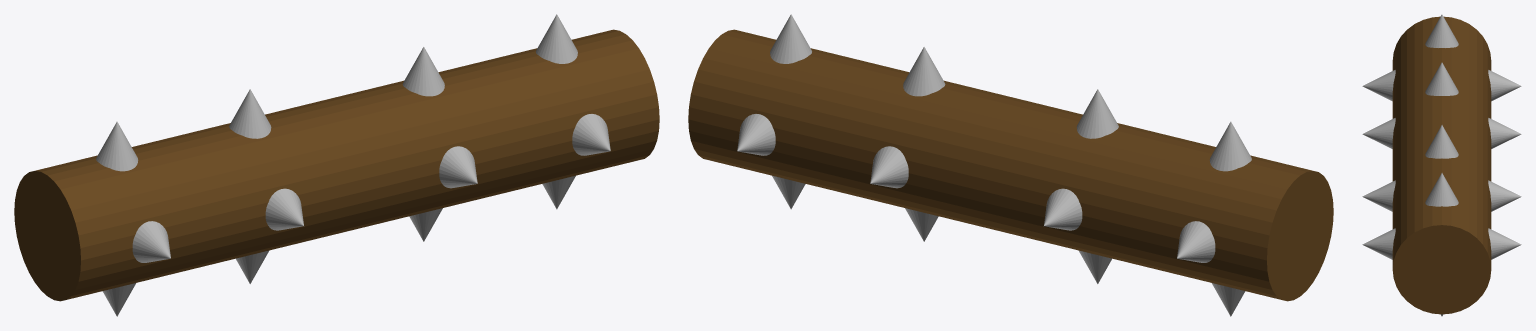
Rendered from tronco2.fbx.
The picture shows the model from 3 angles, left to right: view 1: azimuth 30°, elevation 25°; view 2: azimuth 150°, elevation 25°; view 3: azimuth 270°, elevation 25°; orthographic projection. The views are drawn at different scales.
Visible parts, largest first — view 1: Cone.009; view 2: Cone.009; view 3: Cone.009.
Boxes of the visible parts, box(x1,y1,x2,y2) form: Cone.009: box(14, 14, 659, 316); Cone.009: box(688, 14, 1333, 316); Cone.009: box(1362, 14, 1521, 316).
Size of the model in its own units: 1000 by 323 by 323.
Materials: 1 (1 with a texture image).
